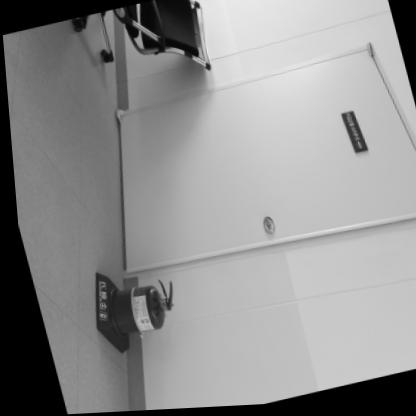FE: (76, 254, 182, 359)
